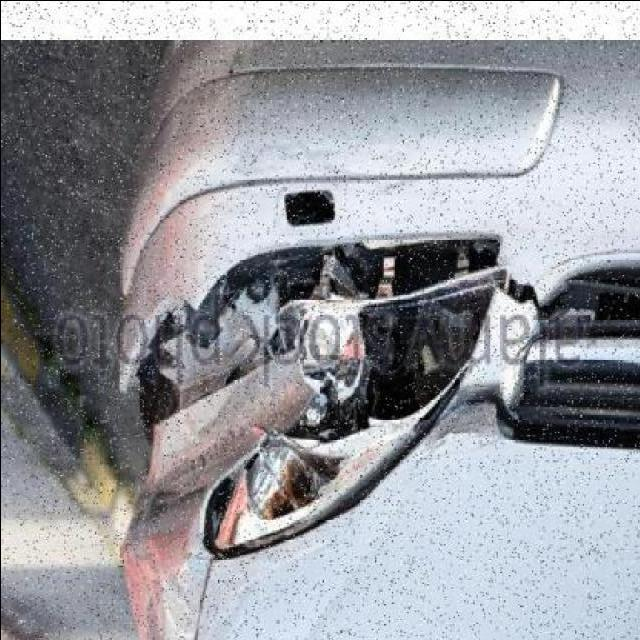Headlight-Damage: (119, 224, 509, 562)
